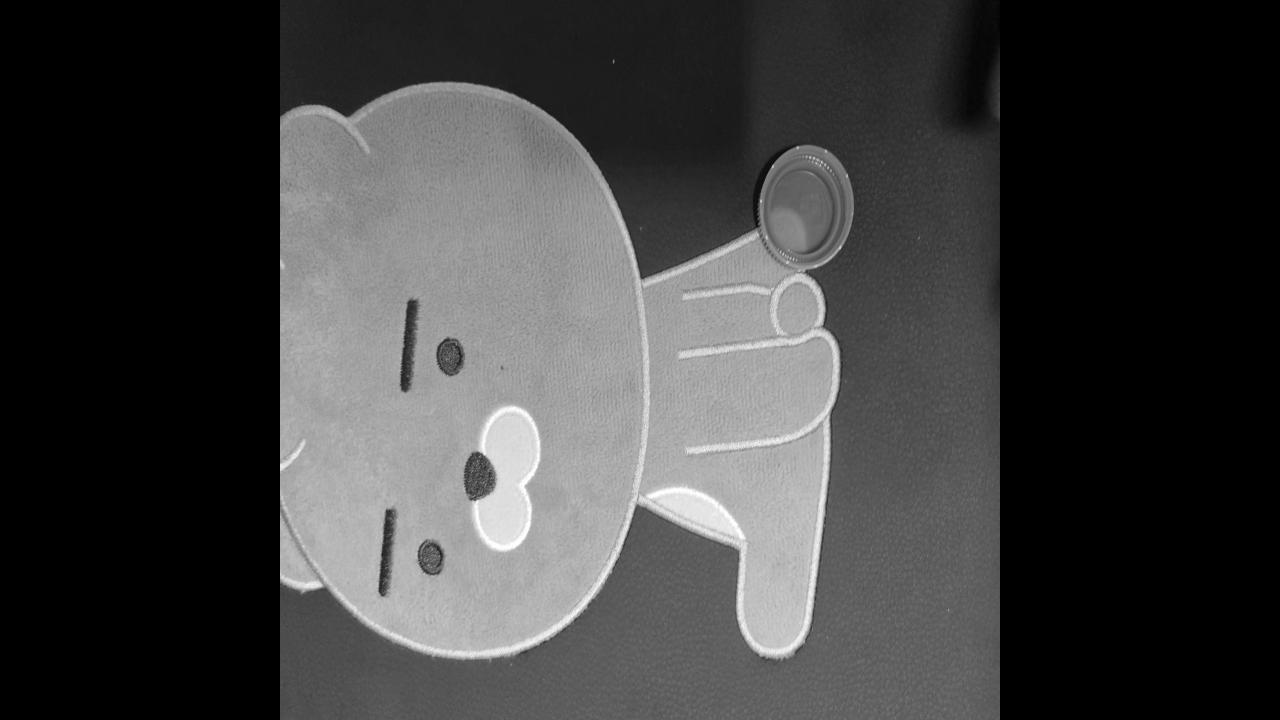bottle_cap: (754, 134, 858, 274)
